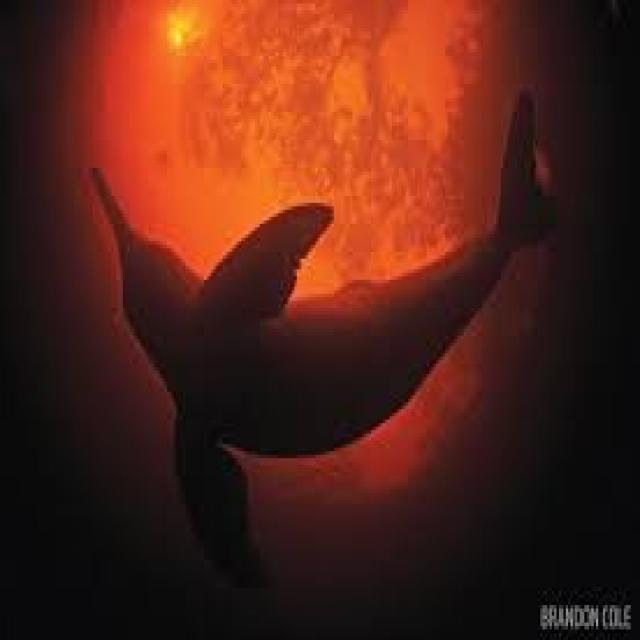dolphin: (81, 84, 580, 532)
